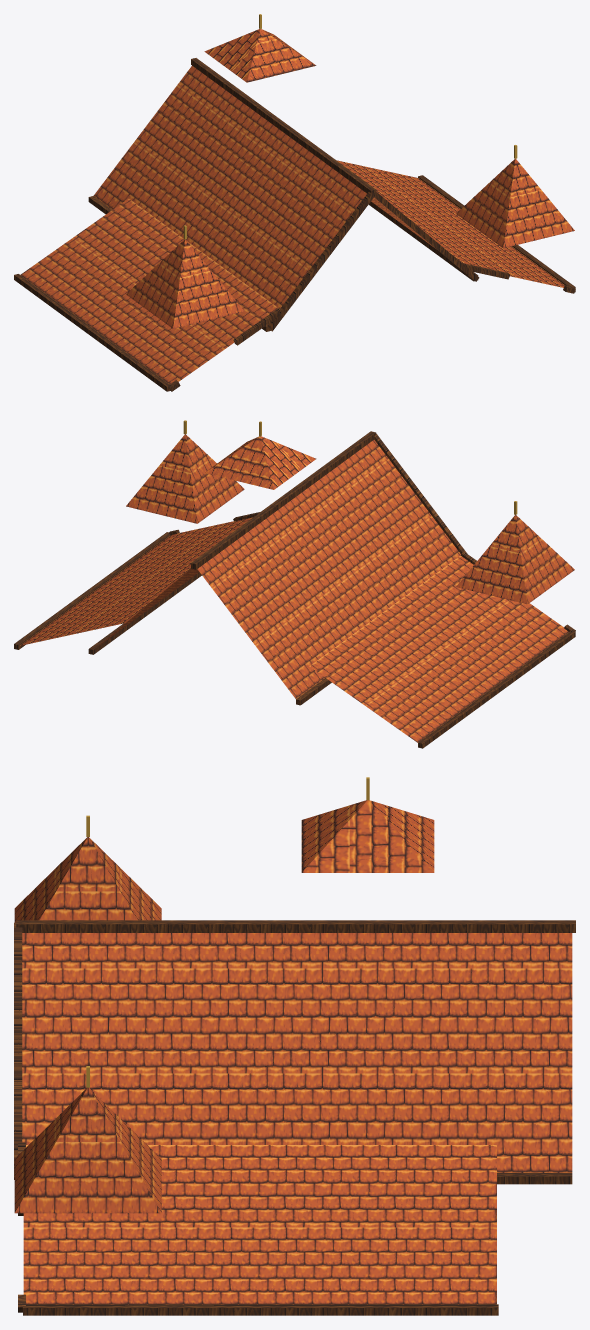
The model's file is SM_GuildHall_Roof.fbx.
The picture shows the model from 3 angles, top to bottom: view 1: azimuth 30°, elevation 25°; view 2: azimuth 150°, elevation 25°; view 3: azimuth 270°, elevation 25°; orthographic projection. The views are drawn at different scales.
Parts seen in each view (by area): view 1: MainRoof, WingRoof, WingRoof.001, TowerRoof_0, TowerRoof_0.001, TowerRoof_3, TowerRoof_3.001, BellRoof_0, BellRoof_3, Ridge_3, Ridge_4, WingEave_3 (+6 smaller); view 2: MainRoof, WingRoof, WingRoof.001, TowerRoof_2.001, TowerRoof_2, TowerRoof_3, TowerRoof_3.001, BellRoof_2, BellRoof_3, Ridge_3, Ridge_4, WingEave_3 (+5 smaller); view 3: MainRoof.001, WingRoof.001, TowerRoof_1.001, Ridge_1, BellRoof_1, TowerRoof_1, WingEave_1.001, Ridge_4, TowerRoof_0.001, TowerRoof_2.001, MainRake_4.001, WingEave_4.001 (+5 smaller).
Part boxes in pixels (<box>): MainRoof: <box>93,66,366,307</box>; WingRoof: <box>20,198,277,383</box>; WingRoof.001: <box>337,160,564,287</box>; TowerRoof_0: <box>173,239,244,328</box>; TowerRoof_0.001: <box>503,159,574,248</box>; TowerRoof_3: <box>126,239,185,328</box>; TowerRoof_3.001: <box>456,159,515,247</box>; BellRoof_0: <box>247,29,316,82</box>; BellRoof_3: <box>204,29,259,82</box>; Ridge_3: <box>191,59,370,193</box>; Ridge_4: <box>191,58,375,190</box>; WingEave_3: <box>14,275,166,391</box>; MainRoof: <box>197,440,460,698</box>; WingRoof: <box>309,555,568,742</box>; WingRoof.001: <box>20,517,252,645</box>; TowerRoof_2.001: <box>126,434,197,523</box>; TowerRoof_2: <box>456,515,527,604</box>; TowerRoof_3: <box>515,515,574,603</box>; TowerRoof_3.001: <box>185,434,244,523</box>; BellRoof_2: <box>205,436,273,489</box>; BellRoof_3: <box>260,436,316,489</box>; Ridge_3: <box>196,433,376,569</box>; Ridge_4: <box>191,431,375,563</box>; WingEave_3: <box>422,632,575,748</box>; MainRoof.001: <box>22,933,572,1172</box>; WingRoof.001: <box>23,1145,496,1304</box>; TowerRoof_1.001: <box>15,1087,161,1213</box>; Ridge_1: <box>16,924,575,932</box>; BellRoof_1: <box>302,800,433,872</box>; TowerRoof_1: <box>39,837,136,920</box>; WingEave_1.001: <box>23,1308,498,1315</box>; Ridge_4: <box>16,920,575,924</box>; TowerRoof_0.001: <box>14,1087,87,1212</box>; TowerRoof_2.001: <box>89,1088,161,1212</box>; MainRake_4.001: <box>14,925,22,1177</box>; WingEave_4.001: <box>23,1304,498,1307</box>.
Bounding box in the file's own units: 1993 × 1527 × 1146.
3 materials, 2 textured.
